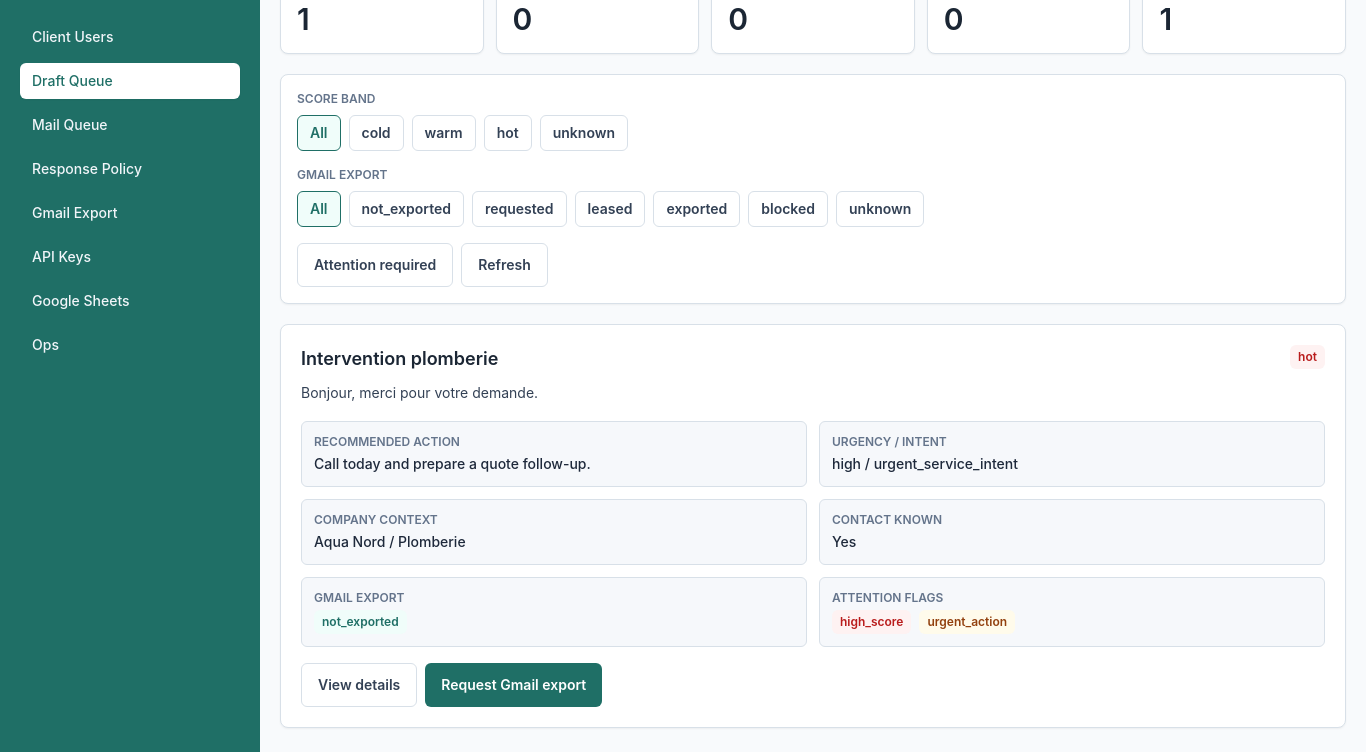
Test: admin app › shows draft queue action errors and keeps forbidden actions hidden
(page scrolled)
Click the button "Request Gmail export" at (514, 685), box [425, 663, 602, 707]
(page scrolled)
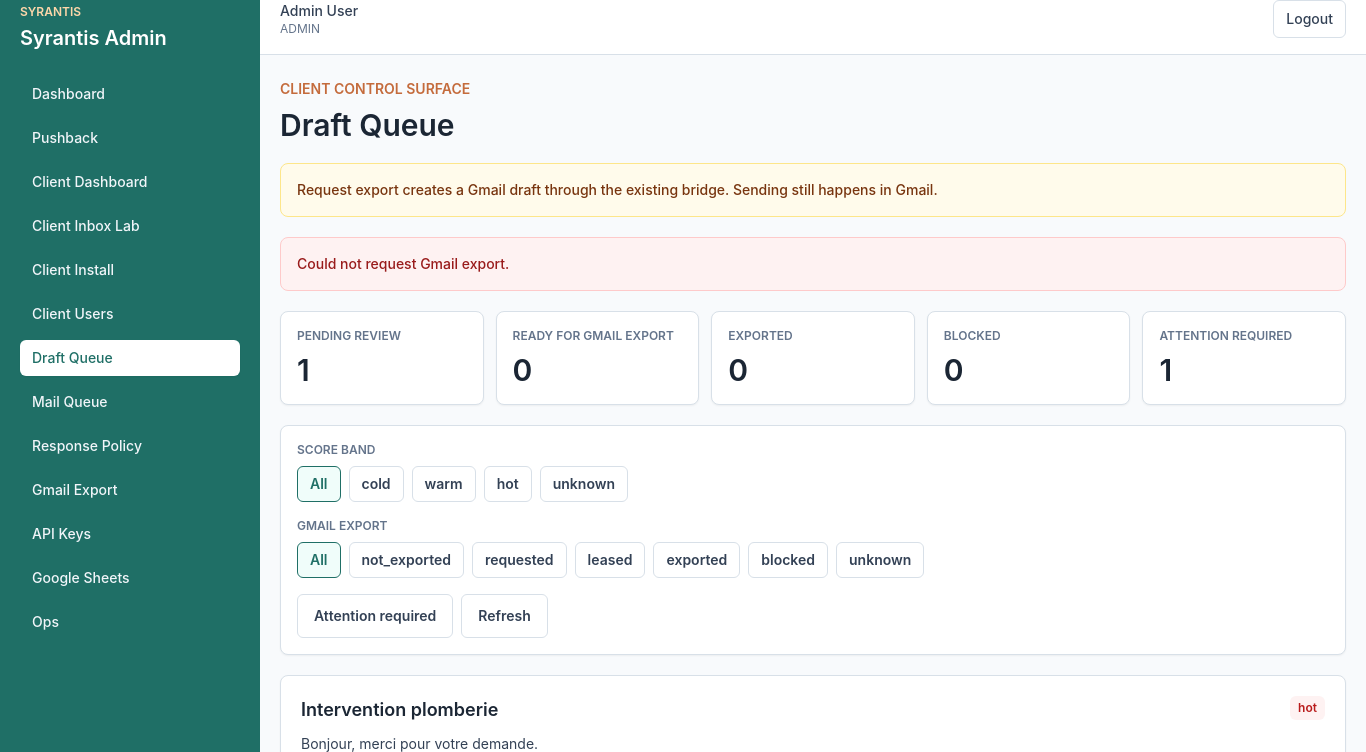
Expected: the text "Could not request Gmail export." is shown, [280, 237, 1346, 291]
